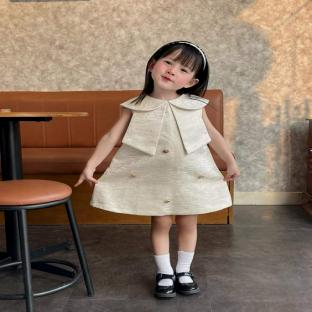Human: (75, 42, 240, 297)
